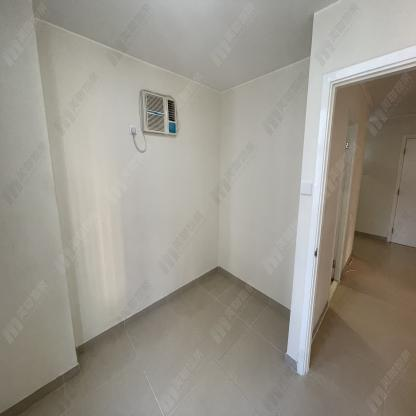AC: (141, 91, 176, 136)
